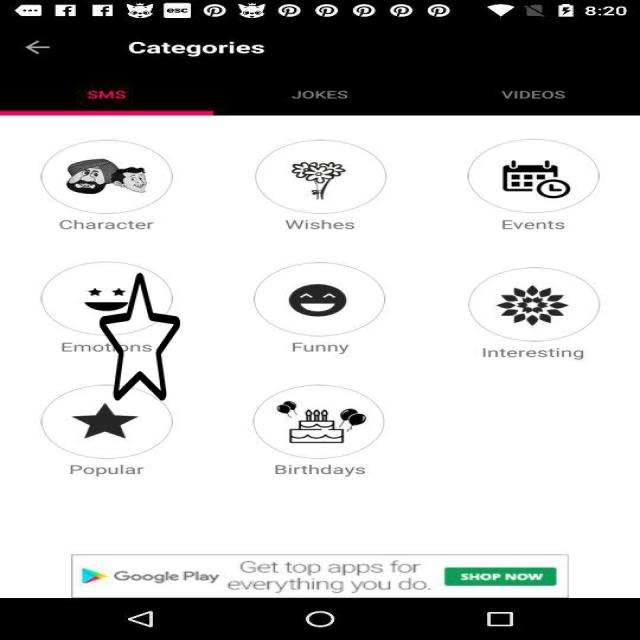forced continuity: (100, 270, 180, 403)
